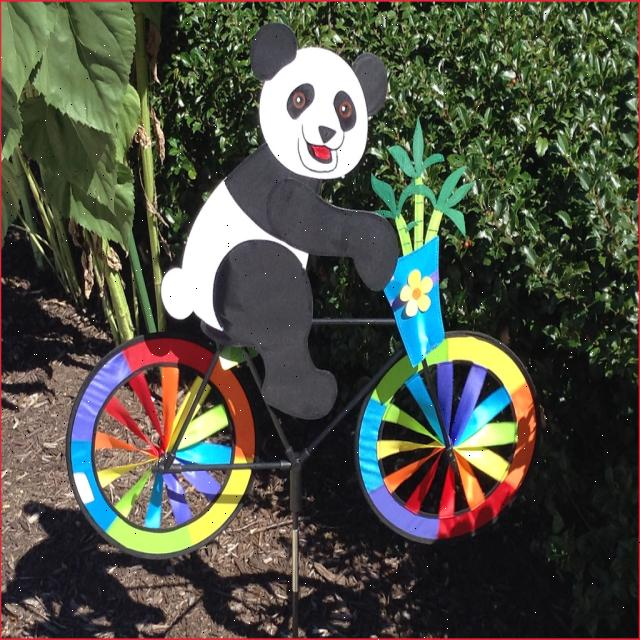panda: (158, 20, 398, 425)
